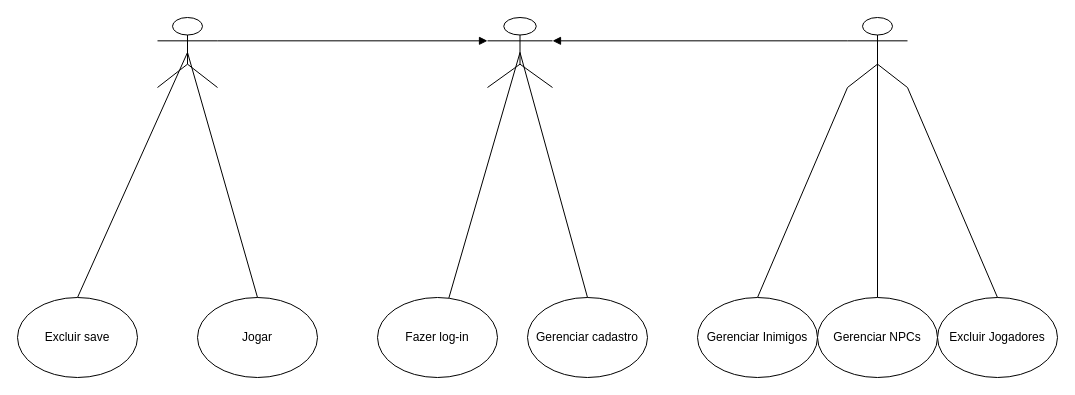
Image size: 1075x395. Some labels were removed from this diagram. Here are the shapes that lost their labels. From the top down, the centre of each, then its label:
At [187,52]: "Jogador".
At [519,52]: "User".
At [877,52]: "Adm".
